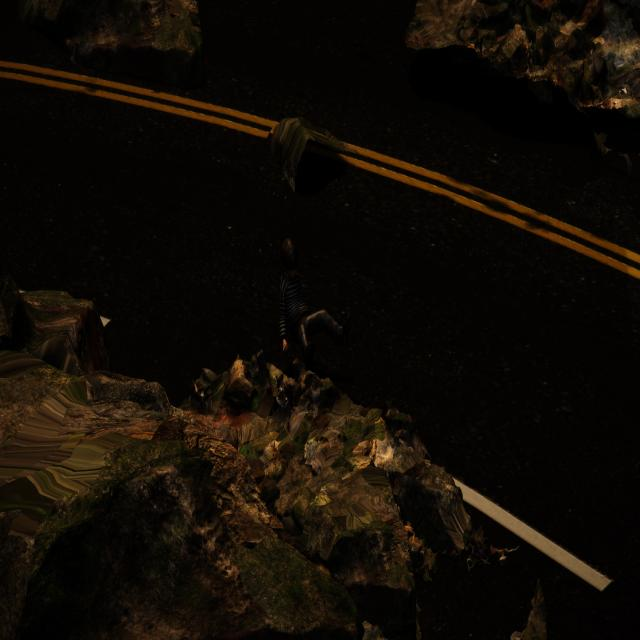Human: (269, 234, 352, 366)
